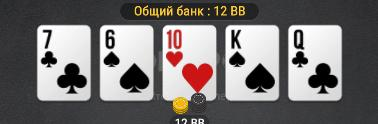10h: (163, 27, 215, 99)
6s: (101, 27, 150, 101)
7c: (38, 27, 89, 98)
Ks: (227, 28, 277, 101)
Qc: (289, 27, 341, 99)
